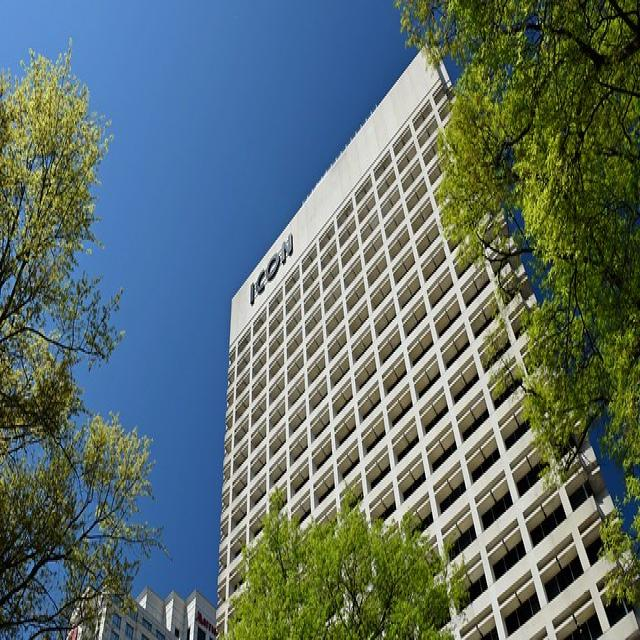building: (204, 26, 640, 640)
